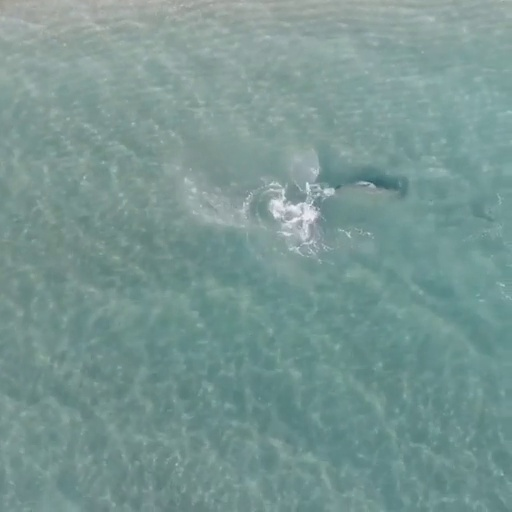shark: (323, 172, 406, 205)
